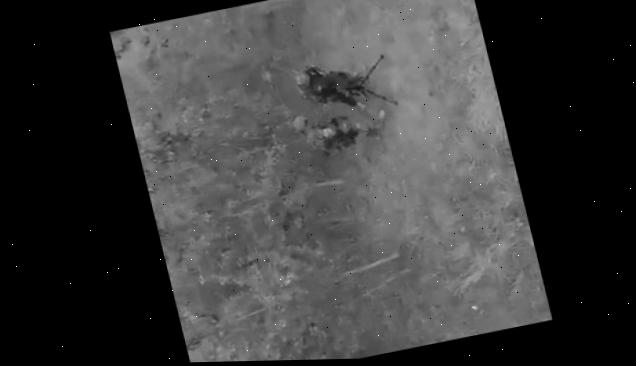person: (288, 97, 394, 159), (290, 57, 365, 117)
